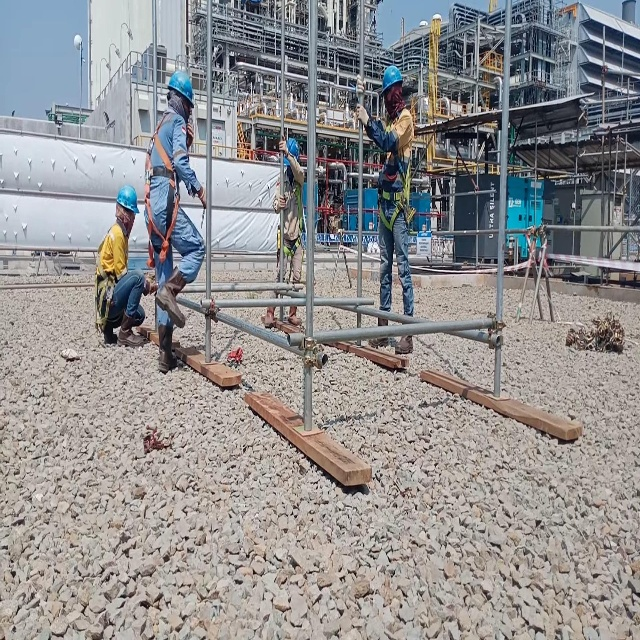Arnes_seguridad: (140, 110, 183, 266), (376, 145, 415, 236), (93, 218, 119, 334), (277, 172, 308, 259)
